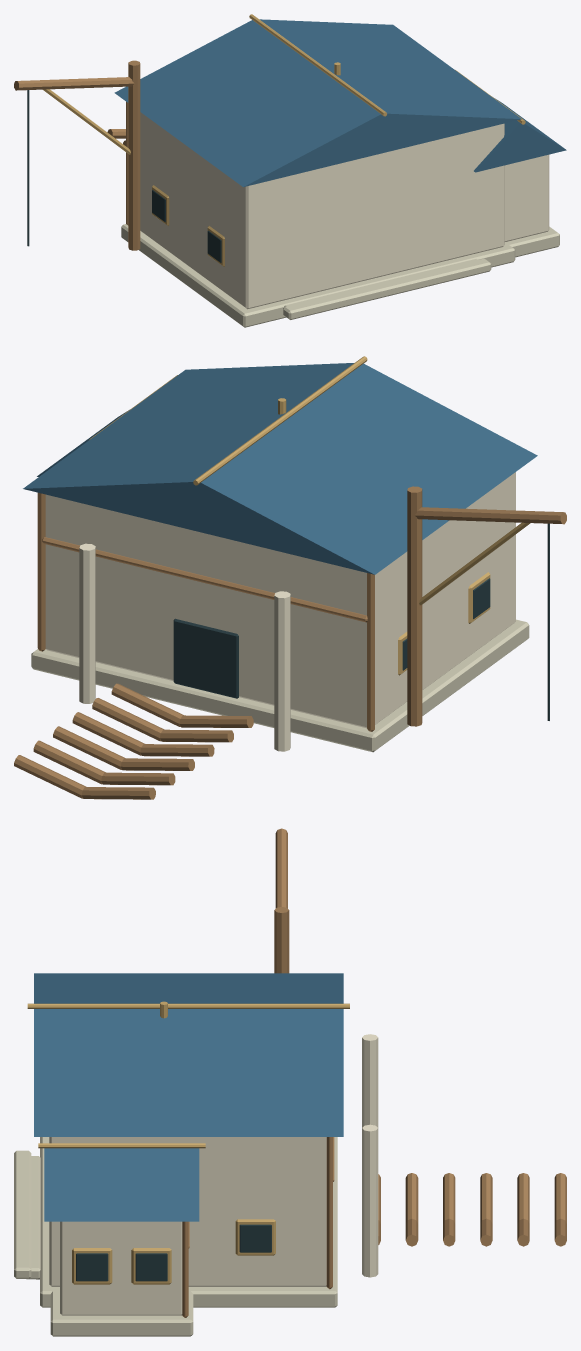
File: level_27.glb
The picture shows the model from 3 angles, top to bottom: view 1: azimuth 30°, elevation 25°; view 2: azimuth 150°, elevation 25°; view 3: azimuth 270°, elevation 25°; orthographic projection. The views are drawn at different scales.
Visible parts, largest first — view 1: shipyard — level 27; view 2: shipyard — level 27; view 3: shipyard — level 27.
Boxes of the visible parts, left/top/right/bottom form: shipyard — level 27: left=14, top=14, right=566, bottom=327; shipyard — level 27: left=14, top=356, right=566, bottom=799; shipyard — level 27: left=14, top=828, right=566, bottom=1336.
Bounding box in the file's own units: 10.13 × 4.41 × 8.92.
